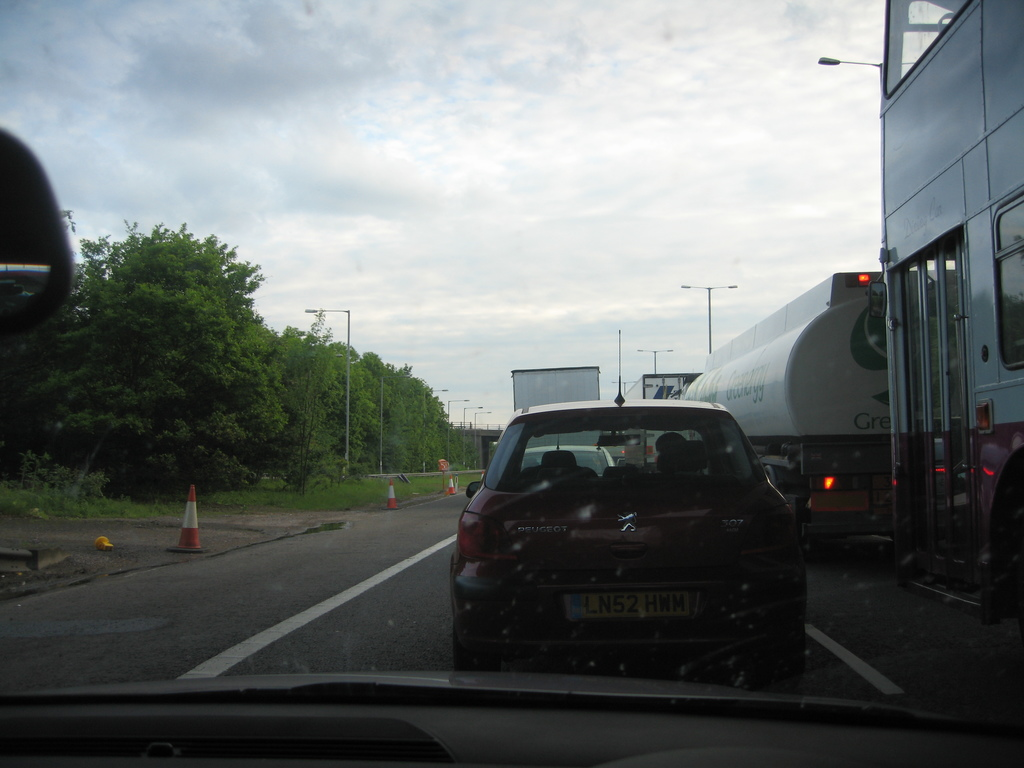Car: (1, 1, 1022, 764), (446, 385, 820, 686), (510, 439, 613, 476)
